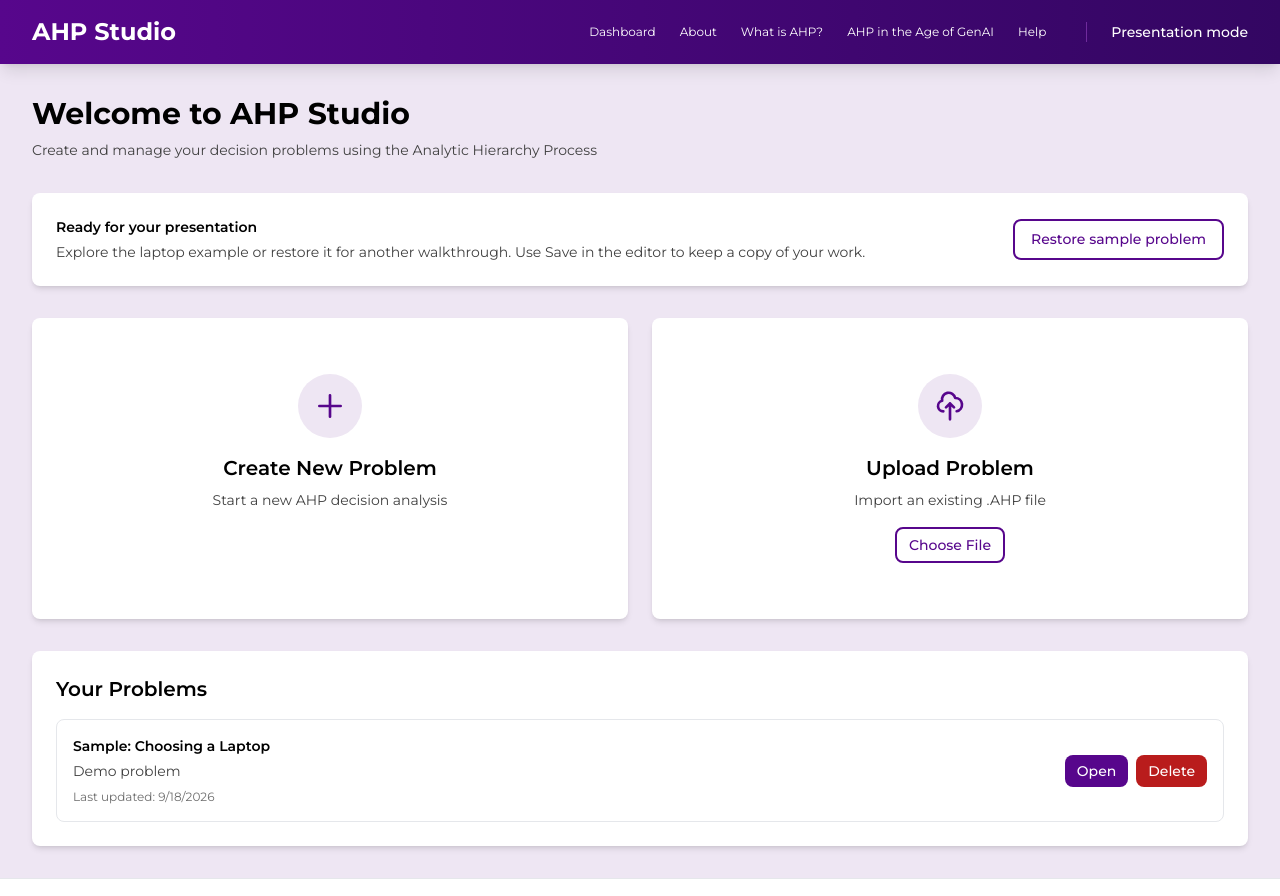
Scenario: account settings redirects to the dashboard, where the sample can be restored
Click the button "Restore sample problem" at (1119, 240), box [1013,219,1224,260]
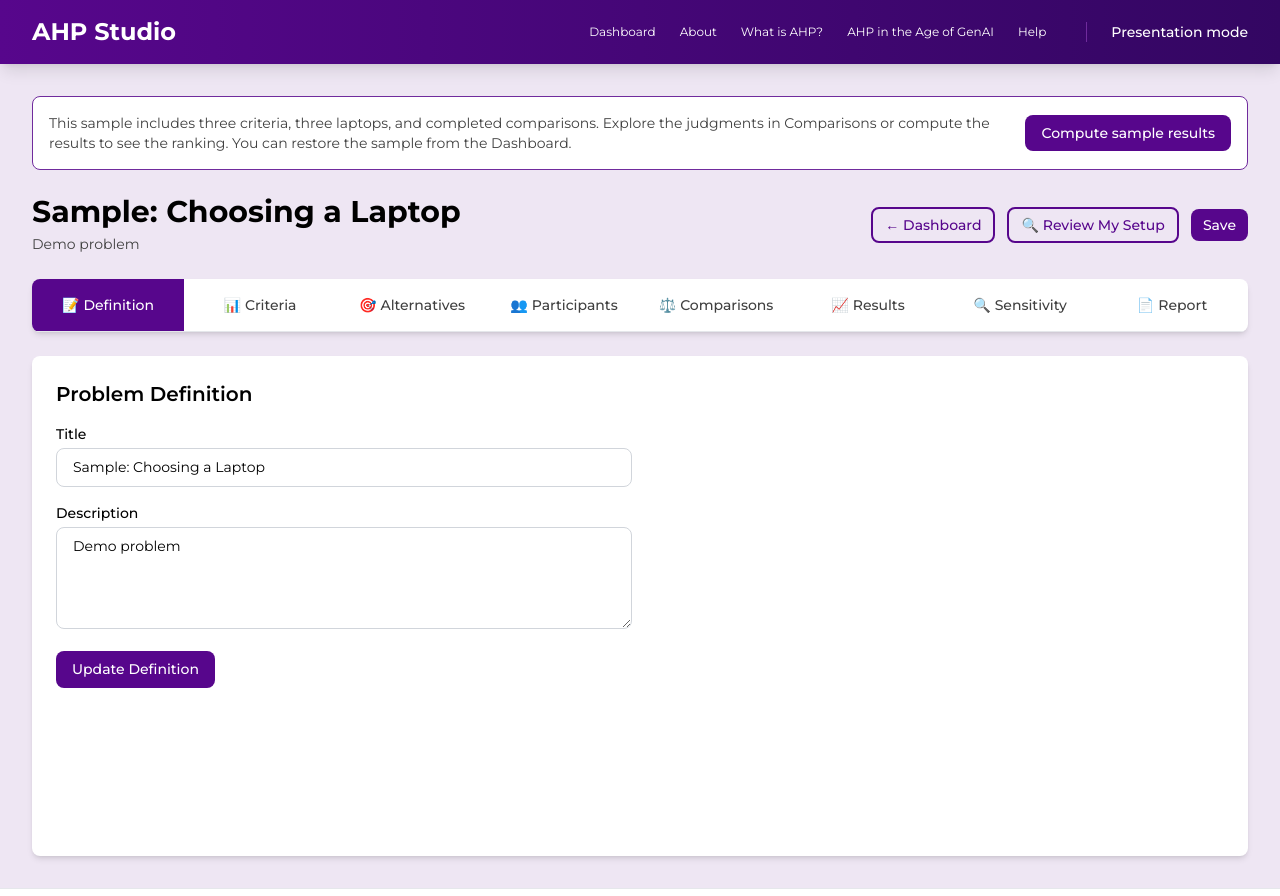
Expected: the field showing "Sample: Choosing a Laptop" is shown, [56,448,632,487]
